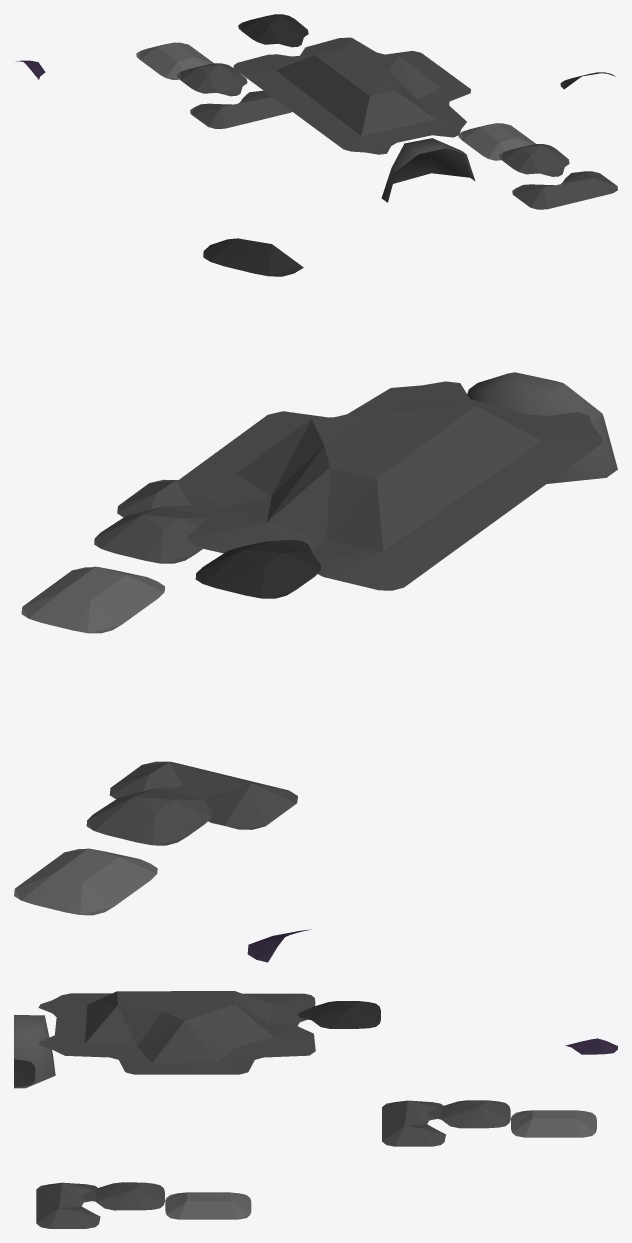
The model's file is newshb-47.glb.
3 renders of one model, top to bottom at view 1: azimuth 30°, elevation 25°; view 2: azimuth 150°, elevation 25°; view 3: azimuth 270°, elevation 25°, orthographic. The views are drawn at different scales.
Visible parts, largest first — view 1: newshb-47; view 2: newshb-47; view 3: newshb-47.
Boxes of the visible parts, bbox=[...] form: newshb-47: bbox=[16, 14, 617, 209]; newshb-47: bbox=[14, 238, 617, 962]; newshb-47: bbox=[14, 991, 617, 1228].
Bounding box in the file's own units: 1.58 × 0.6111 × 2.33.
